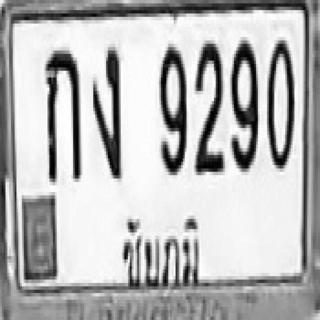A01: (44, 47, 80, 178)
A07: (91, 44, 120, 175)
N00: (265, 37, 292, 165)
N02: (194, 40, 223, 172)
N09: (157, 44, 185, 172), (230, 37, 257, 168)
P09: (114, 206, 208, 302)
